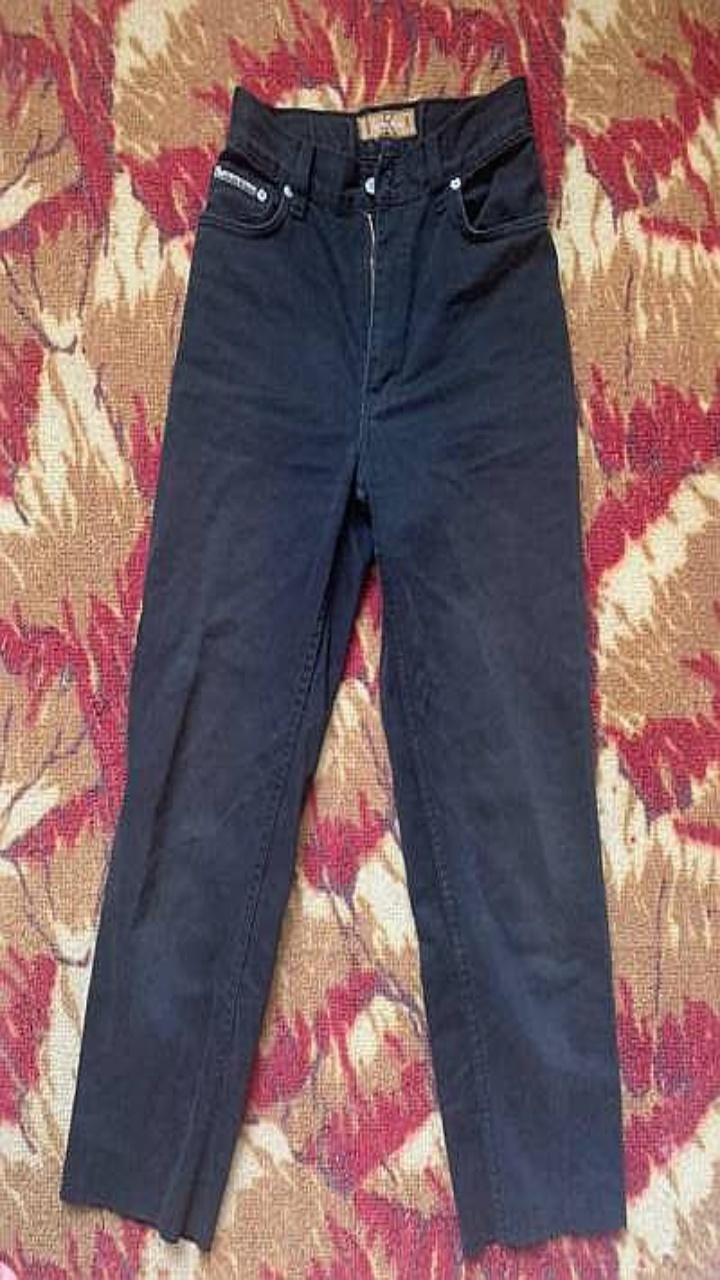Jeans: (60, 76, 625, 1253)
